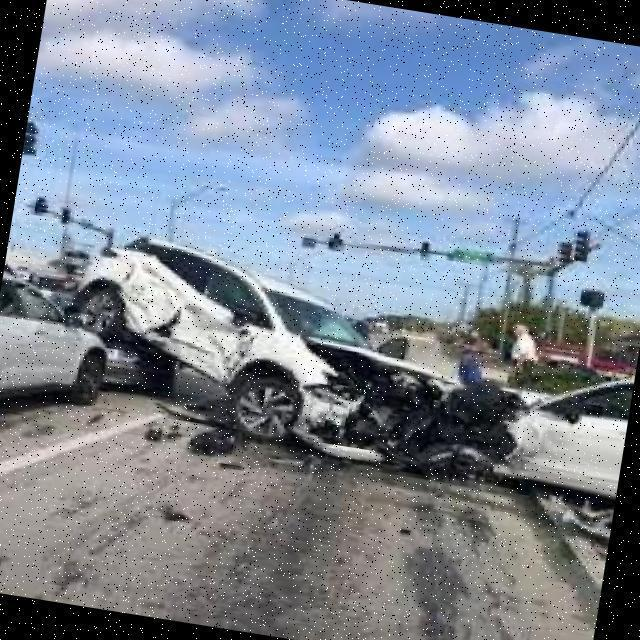accident: (47, 223, 640, 536)
